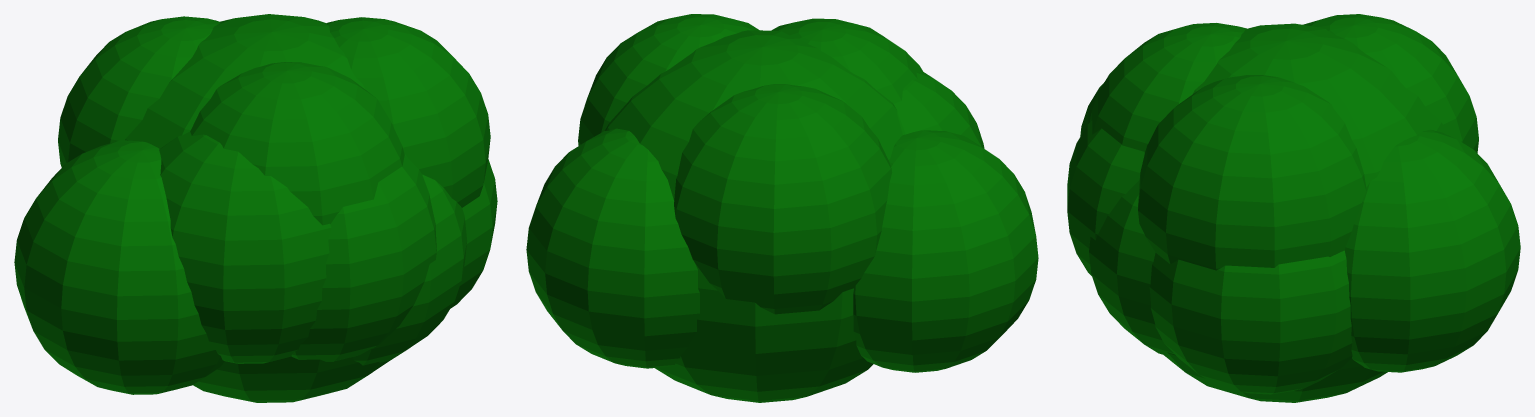
File: Bush Model-1.fbx
3 renders of one model, left to right at view 1: azimuth 30°, elevation 25°; view 2: azimuth 150°, elevation 25°; view 3: azimuth 270°, elevation 25°, orthographic. The views are drawn at different scales.
Parts seen in each view (by area): view 1: Cylinder; view 2: Cylinder; view 3: Cylinder.
Boxes of the visible parts, box(x1,y1,x2,y2) form: Cylinder: box(14, 14, 497, 402); Cylinder: box(526, 14, 1038, 402); Cylinder: box(1067, 14, 1520, 402).
Bounding box in the file's own units: 322 × 240 × 286.
